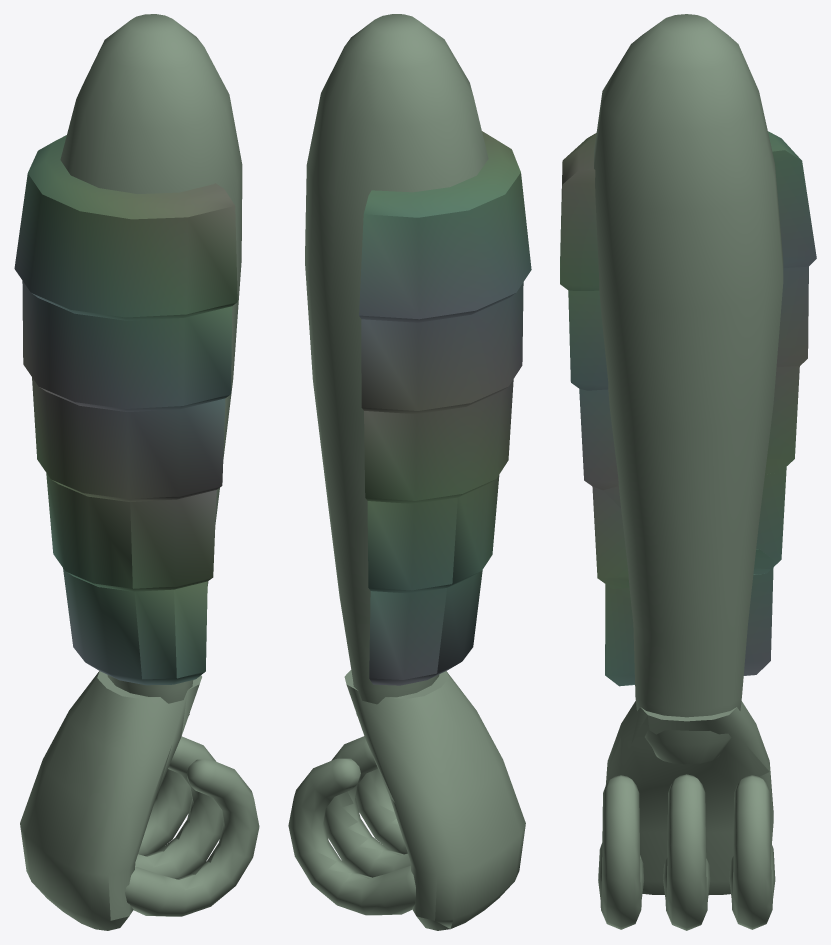
The model's file is forearm_l.glb.
3 views of the same model, side by side, from view 1: azimuth 30°, elevation 25°; view 2: azimuth 150°, elevation 25°; view 3: azimuth 270°, elevation 25° (orthographic). The views are drawn at different scales.
Parts seen in each view (by area): view 1: OUT; view 2: OUT; view 3: OUT.
Boxes of the visible parts, x1=… form: OUT: x1=14, y1=14, x2=259, y2=930; OUT: x1=288, y1=14, x2=531, y2=930; OUT: x1=560, y1=14, x2=816, y2=930.
Bounding box in the file's own units: 0.087 × 0.3629 × 0.0939.
